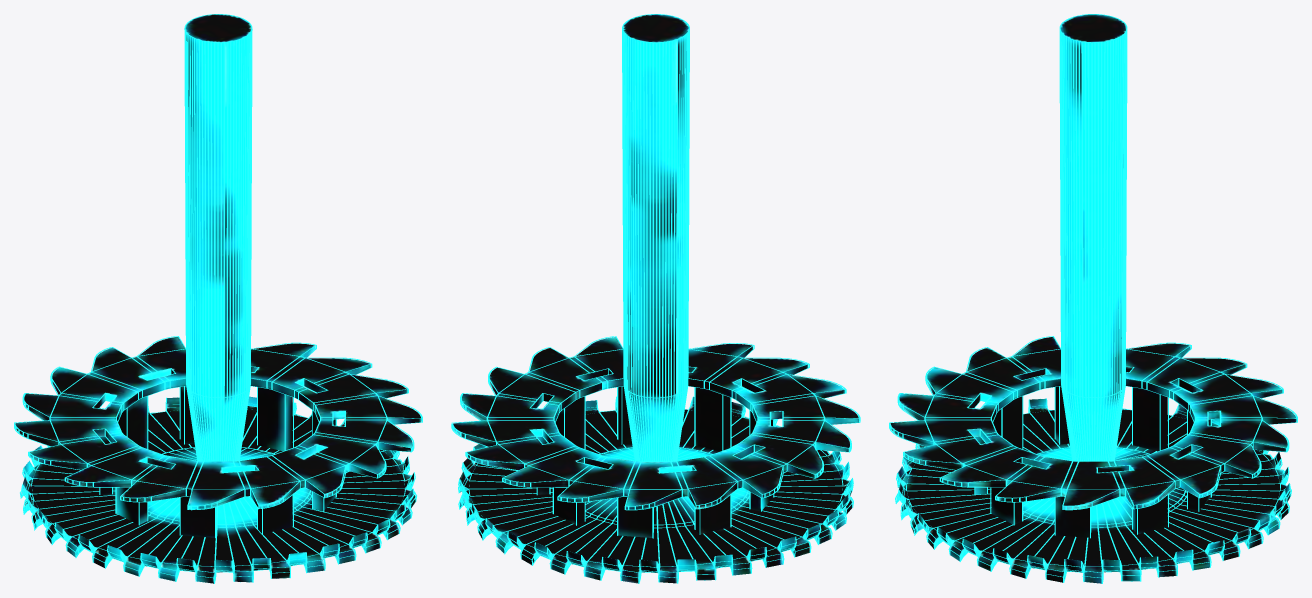
File: Paint_mixer-transformed.glb
The picture shows the model from 3 angles, left to right: view 1: azimuth 30°, elevation 25°; view 2: azimuth 150°, elevation 25°; view 3: azimuth 270°, elevation 25°; orthographic projection.
Visible parts, largest first — view 1: Paint_mixer; view 2: Paint_mixer; view 3: Paint_mixer.
Boxes of the visible parts, left/top/right/bottom form: Paint_mixer: left=14, top=14, right=422, bottom=583; Paint_mixer: left=451, top=14, right=860, bottom=583; Paint_mixer: left=889, top=14, right=1297, bottom=583.
Size of the model in its own units: 4.88 by 6.27 by 4.92.
Materials: 2 (1 with a texture image).
